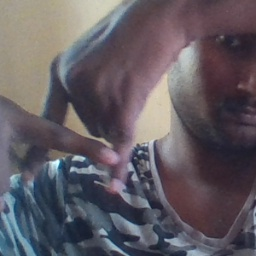H: (15, 75, 150, 195)
